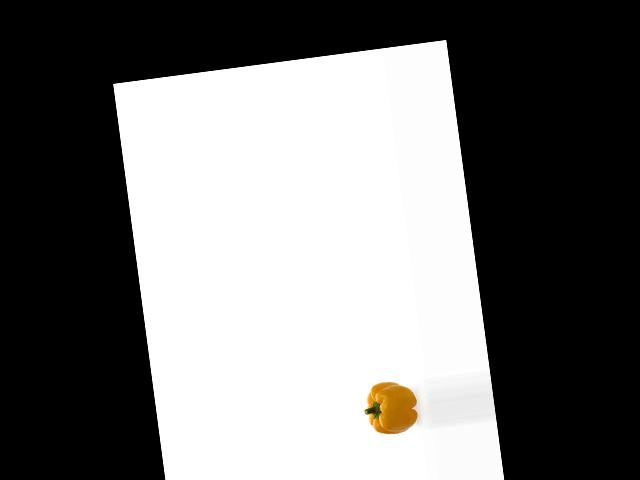bell_pepper: (358, 374, 421, 437)
